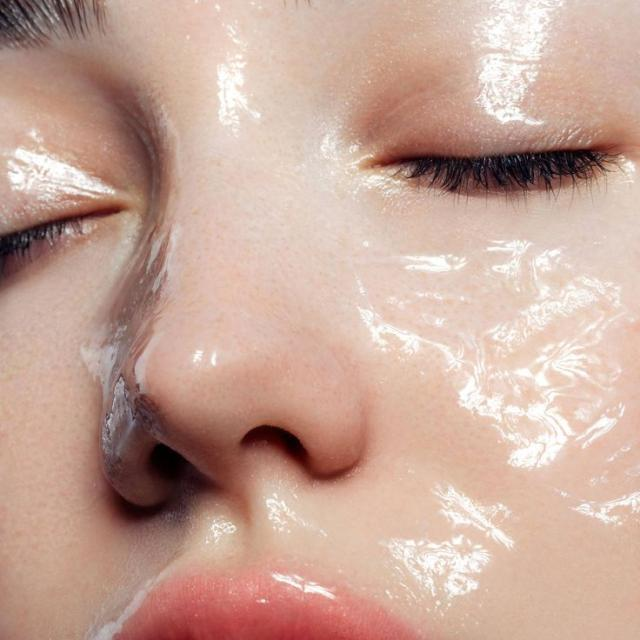oily: (94, 283, 176, 414), (528, 322, 640, 414), (362, 252, 422, 357), (438, 294, 506, 378), (440, 487, 512, 565), (194, 68, 262, 142), (520, 268, 604, 313)
